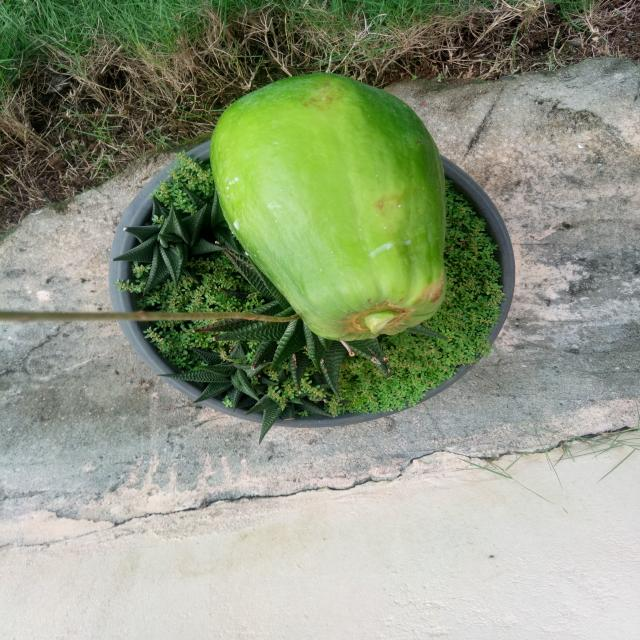Pepaya unrippen: (204, 71, 450, 348)
